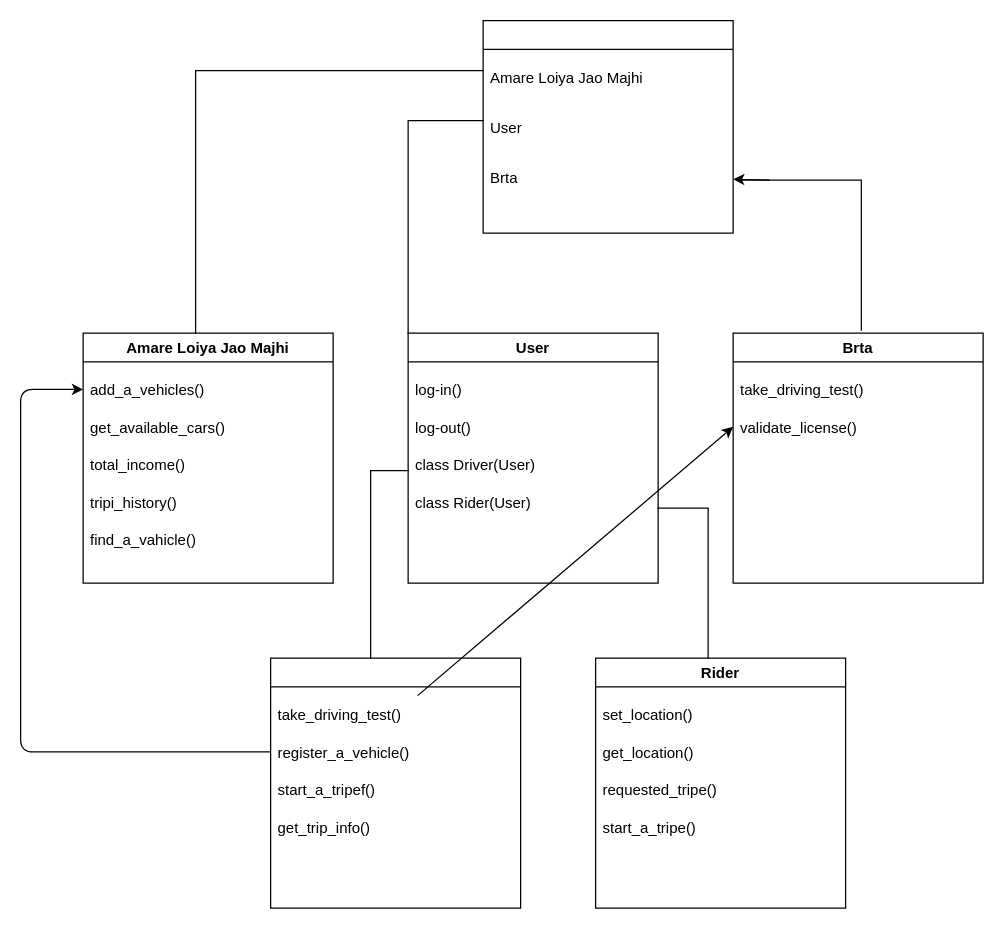
The diagram is 1004 pixels wide and 929 high, and some of its shapes have lost their labels. The box of each missing label's shape, as (x1, y1, x2, y2) in pixels:
Class: (482, 19, 733, 233)
Driver: (269, 657, 521, 908)
